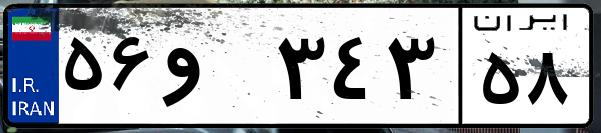3: (270, 28, 330, 110), (385, 28, 445, 110)
4: (330, 28, 385, 110)
5: (57, 26, 110, 100), (475, 38, 525, 113)
6: (110, 28, 158, 98)
8: (525, 38, 570, 115)
و: (158, 20, 270, 120)
